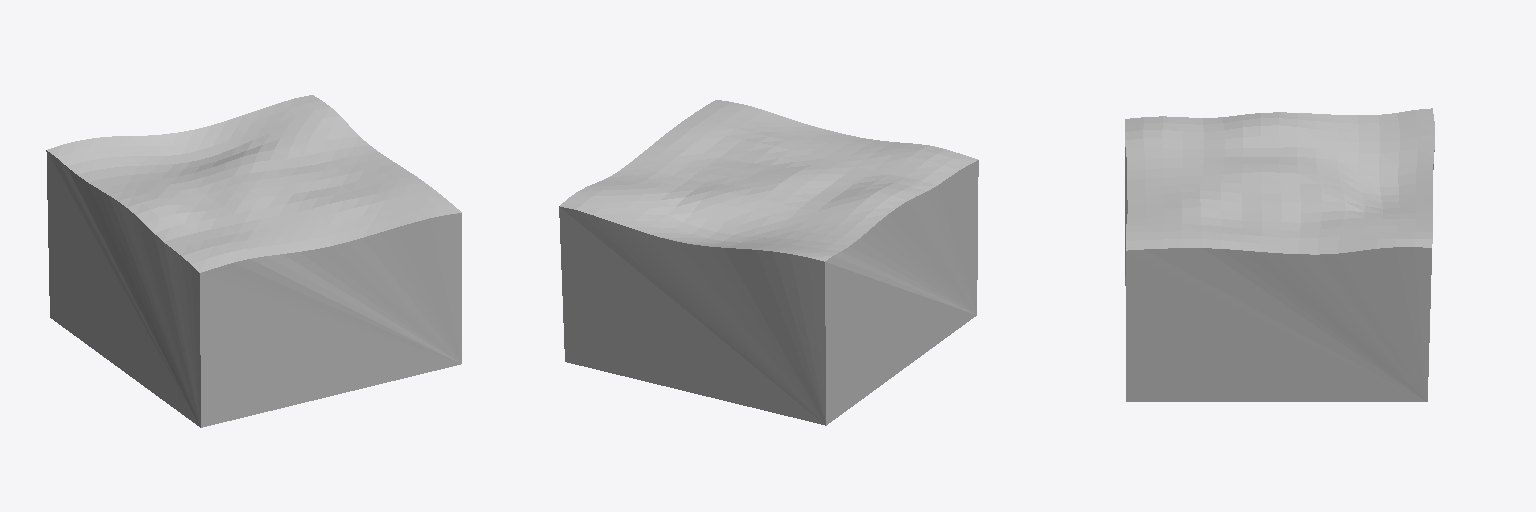
Rendered from ground.obj.
3 views of the same model, side by side, from view 1: azimuth 30°, elevation 25°; view 2: azimuth 150°, elevation 25°; view 3: azimuth 270°, elevation 25° (orthographic).
Visible parts, largest first — view 1: Cube; view 2: Cube; view 3: Cube.
Part boxes in pixels (x1,y1,x2,y2): Cube: (46, 95, 461, 427); Cube: (559, 100, 978, 425); Cube: (1125, 108, 1434, 401).
Size of the model in its own units: 2.03 by 1.22 by 2.05.